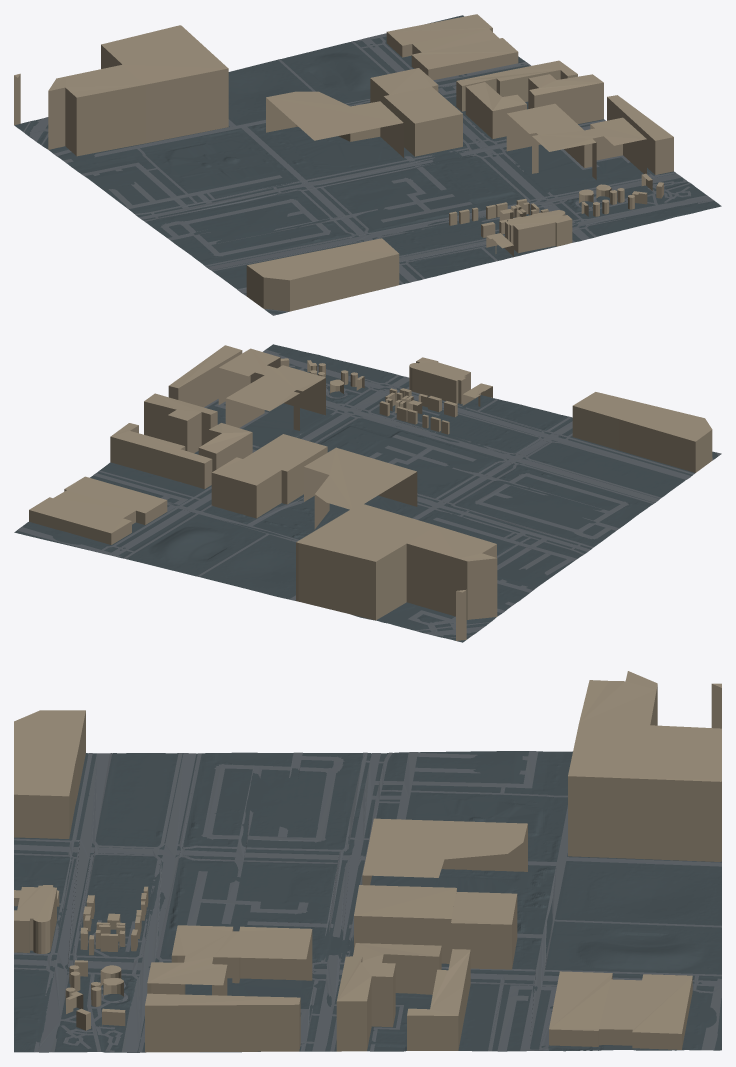
The model's file is epsg26910-1441-10886.lod0.glb.
3 views of the same model, one above another, from view 1: azimuth 30°, elevation 25°; view 2: azimuth 150°, elevation 25°; view 3: azimuth 270°, elevation 25° (orthographic). The views are drawn at different scales.
Visible parts, largest first — view 1: epsg26910-1441-10886-lod0; view 2: epsg26910-1441-10886-lod0; view 3: epsg26910-1441-10886-lod0.
Boxes of the visible parts, x1,y1,x2,y2 form: epsg26910-1441-10886-lod0: (14, 14, 721, 315); epsg26910-1441-10886-lod0: (14, 344, 721, 642); epsg26910-1441-10886-lod0: (14, 671, 721, 1052).
Size of the model in its own units: 384 by 49.94 by 384.
